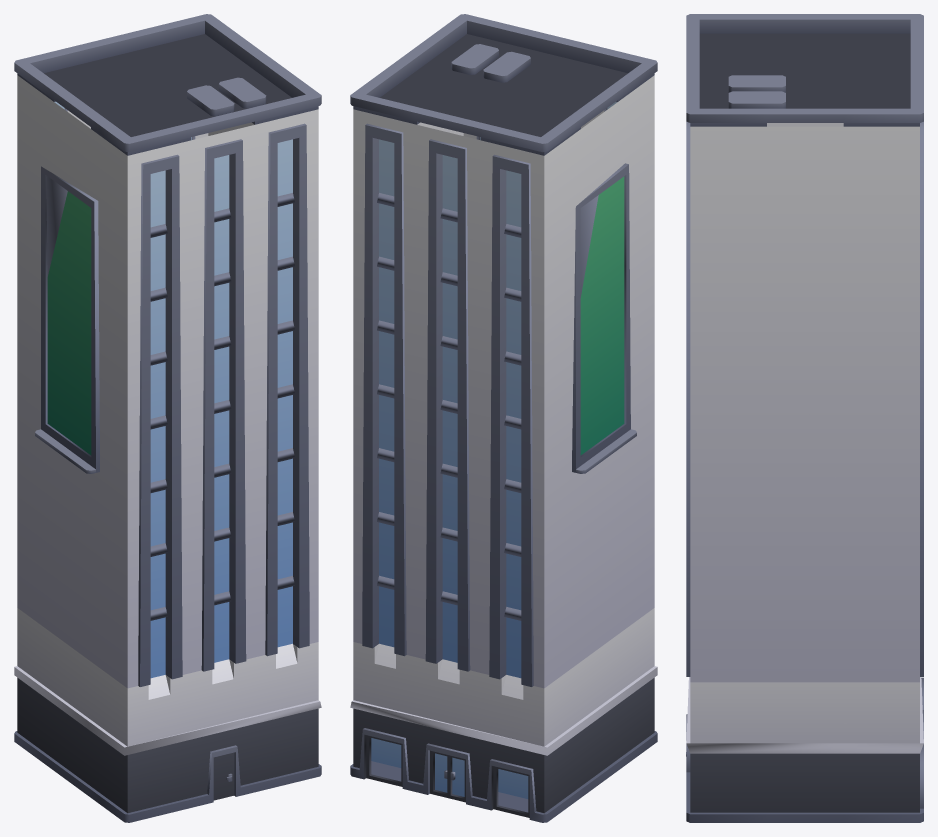
Rendered from tower-e.glb.
3 renders of one model, left to right at view 1: azimuth 30°, elevation 25°; view 2: azimuth 150°, elevation 25°; view 3: azimuth 270°, elevation 25°, orthographic. The views are drawn at different scales.
Visible parts, largest first — view 1: building-skyscraper-e; view 2: building-skyscraper-e; view 3: building-skyscraper-e.
Boxes of the visible parts, <box> form: building-skyscraper-e: <box>14,14,321,822</box>; building-skyscraper-e: <box>350,14,657,822</box>; building-skyscraper-e: <box>686,14,923,822</box>.
Bounding box in the file's own units: 1.3 × 4.08 × 1.24.
Materials: 1 (1 with a texture image).
